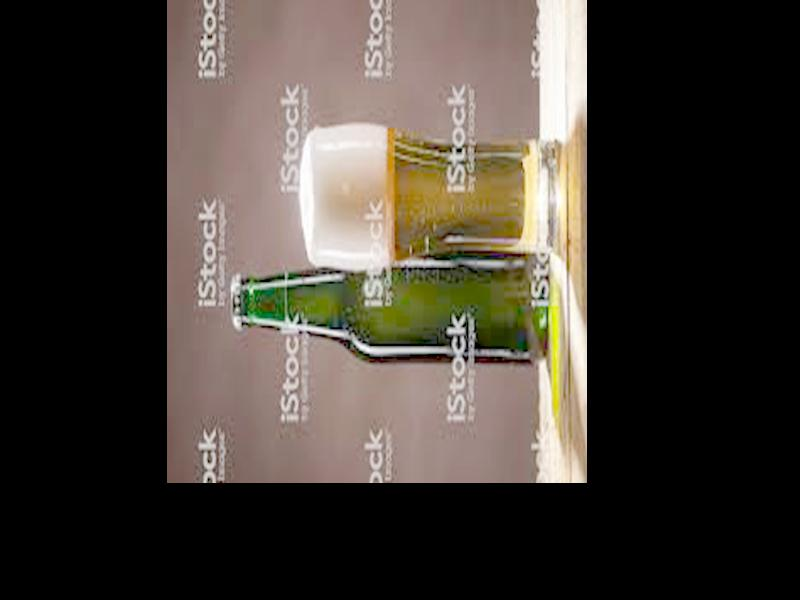Beer: (231, 249, 550, 366)
